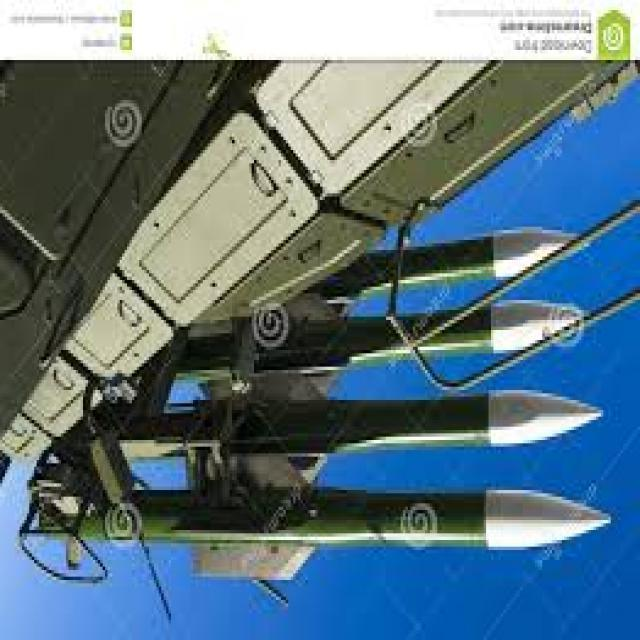Missile: (135, 482, 618, 558), (170, 389, 604, 452)
